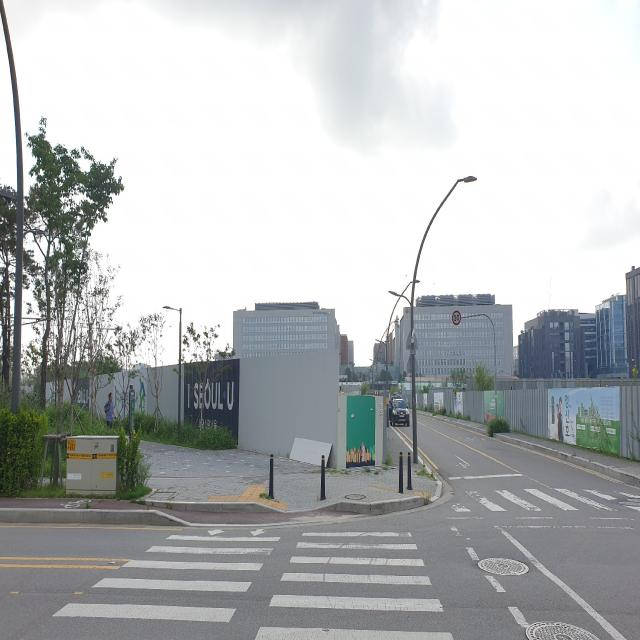횡단보도: (50, 525, 456, 636), (428, 468, 640, 528)
